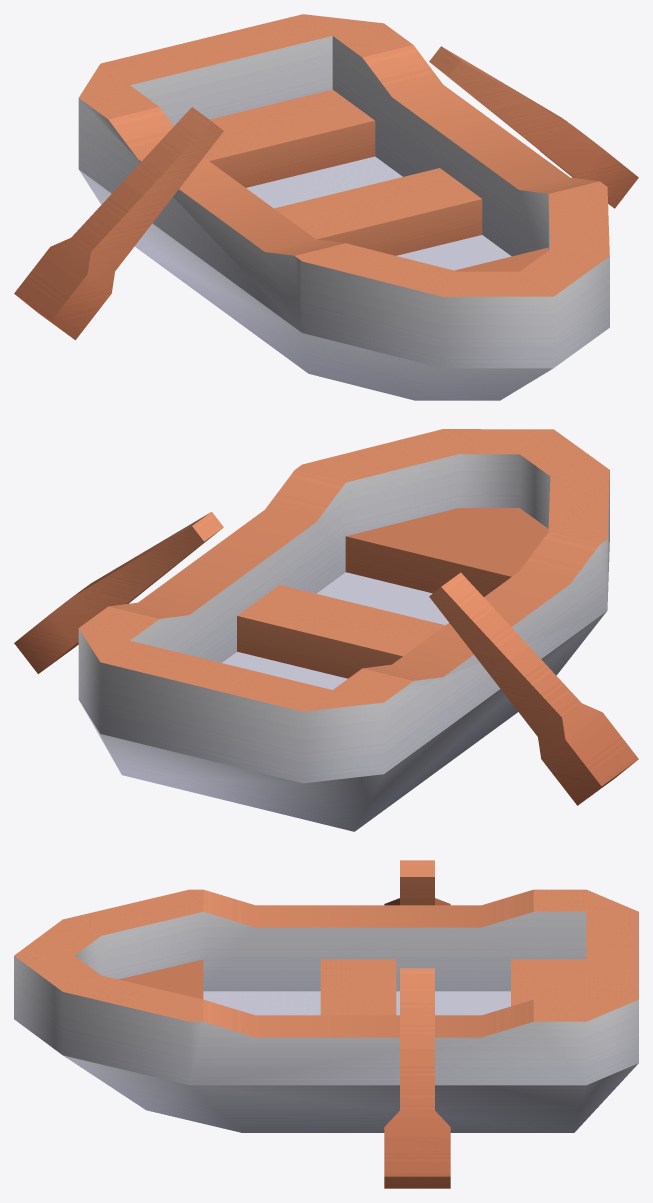
File: boat_row_large.glb
3 views of the same model, one above another, from view 1: azimuth 30°, elevation 25°; view 2: azimuth 150°, elevation 25°; view 3: azimuth 270°, elevation 25° (orthographic). The views are drawn at different scales.
Parts seen in each view (by area): view 1: boat-row-large, paddles; view 2: boat-row-large, paddles; view 3: boat-row-large, paddles.
Part boxes in pixels (left/top/right/bottom): boat-row-large: left=78, top=14, right=609, bottom=400; paddles: left=14, top=46, right=638, bottom=339; boat-row-large: left=78, top=429, right=609, bottom=831; paddles: left=14, top=512, right=638, bottom=805; boat-row-large: left=14, top=889, right=638, bottom=1132; paddles: left=384, top=860, right=450, bottom=1188.
Bounding box in the file's own units: 2.75 × 0.8477 × 2.85.
Materials: 1 (1 with a texture image).
